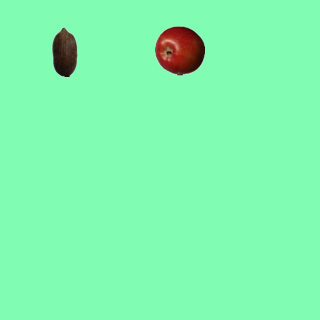Apple Braeburn: (154, 25, 204, 75)
Nut Pecan: (39, 26, 89, 76)
